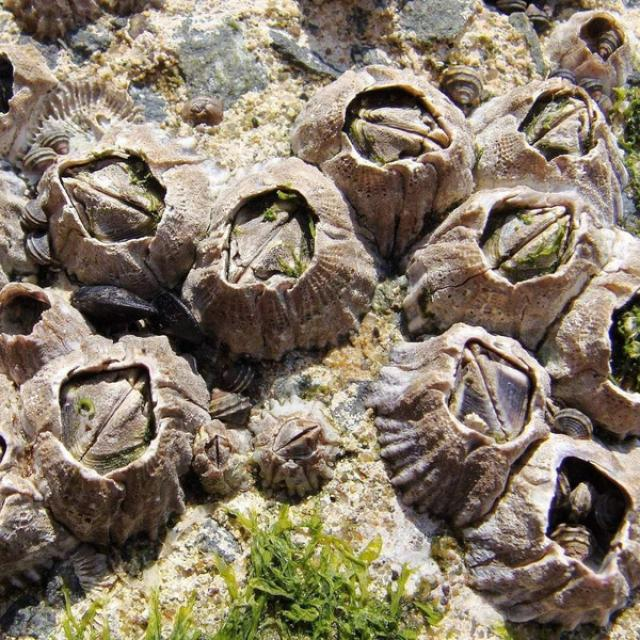barnacles: (19, 340, 204, 549), (375, 323, 552, 529), (196, 167, 382, 360), (36, 105, 206, 302), (294, 58, 476, 234), (418, 185, 606, 344), (494, 436, 637, 636), (464, 79, 636, 216), (246, 407, 340, 503), (0, 278, 86, 377), (543, 0, 640, 84), (189, 425, 247, 498)
